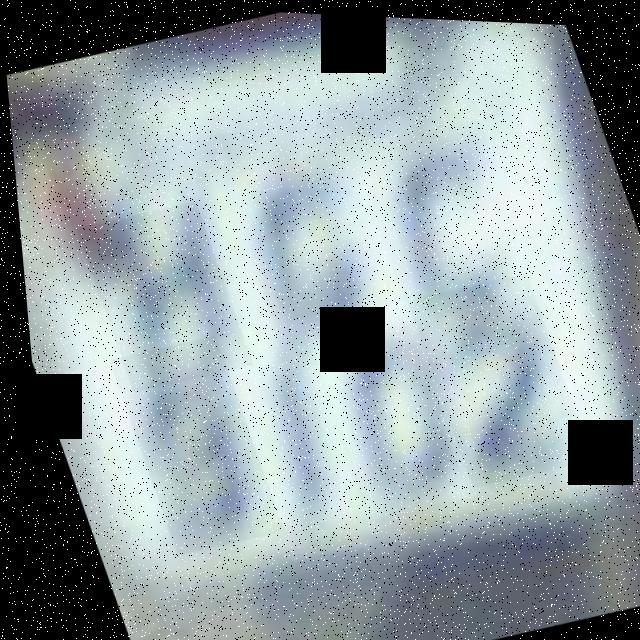0: (296, 288, 484, 520)
1: (225, 332, 357, 529)
2: (398, 263, 587, 487)
9: (100, 330, 276, 558)
H: (69, 194, 249, 395)
